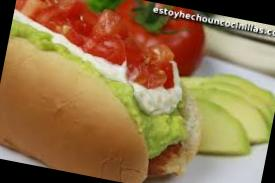Completos: (0, 0, 224, 183)
